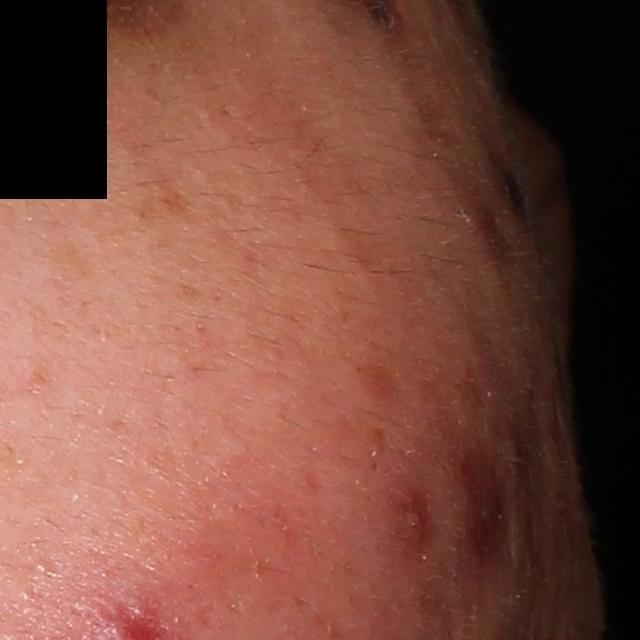melasma: (132, 184, 199, 224)
papule: (401, 497, 432, 541)
